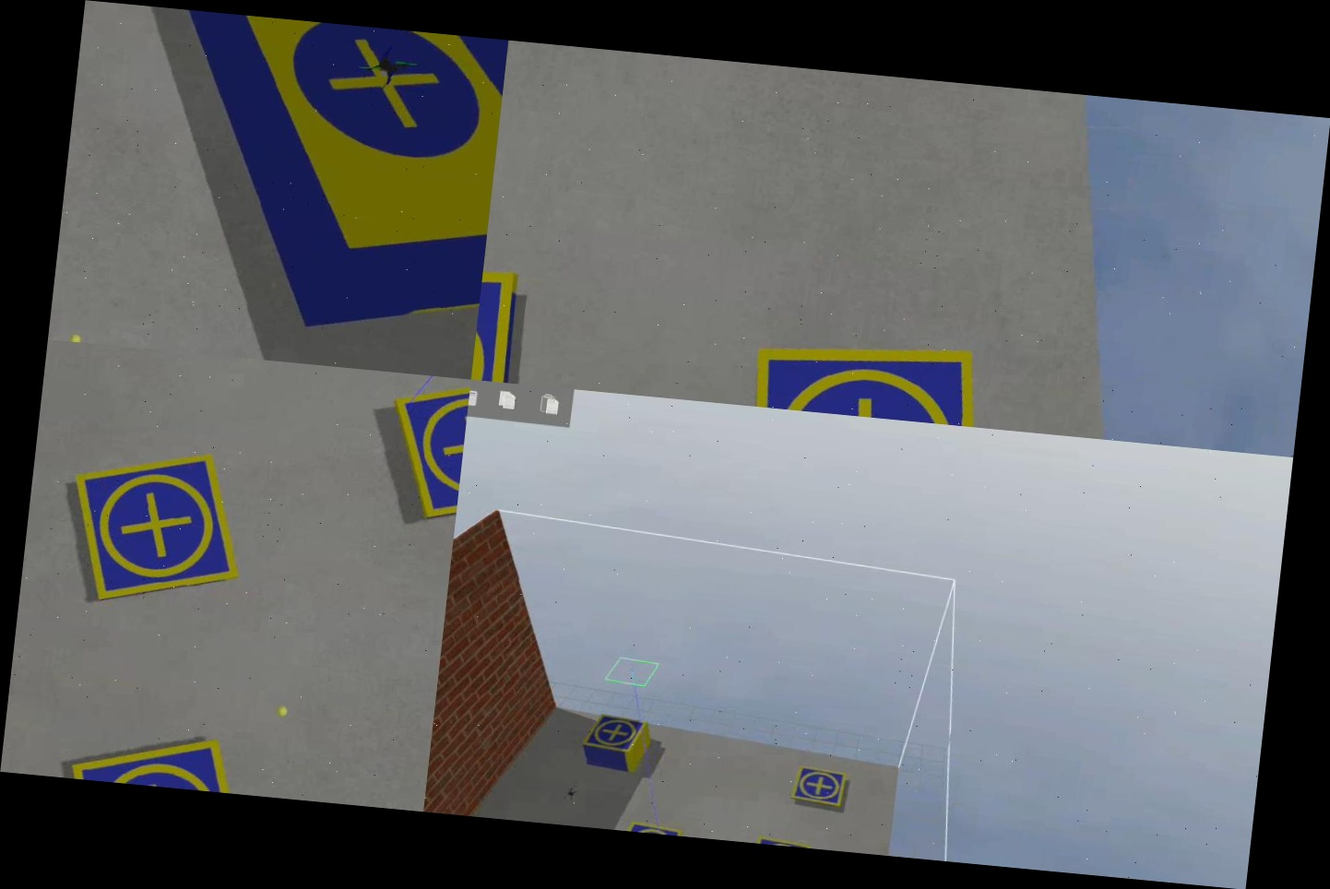large_base: (119, 6, 508, 350)
small_base: (60, 444, 259, 613), (750, 328, 1003, 429), (64, 725, 264, 795), (386, 373, 471, 521), (790, 764, 849, 808), (583, 712, 648, 751), (616, 819, 683, 836)
